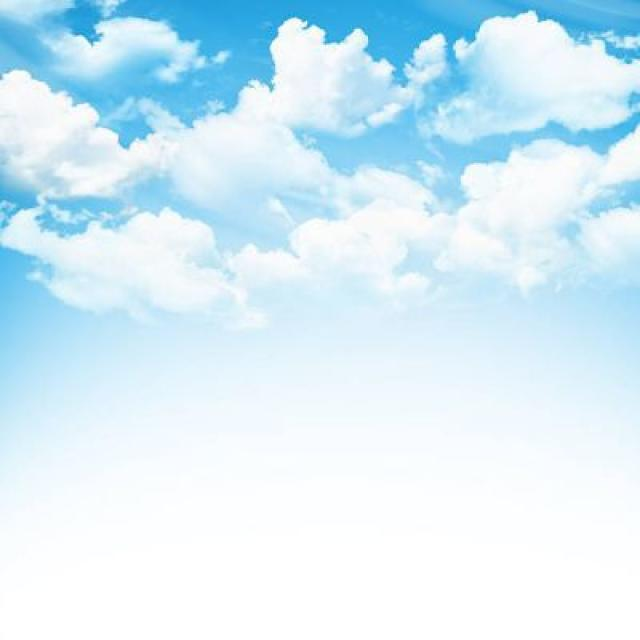Cu: (1, 25, 640, 395)
